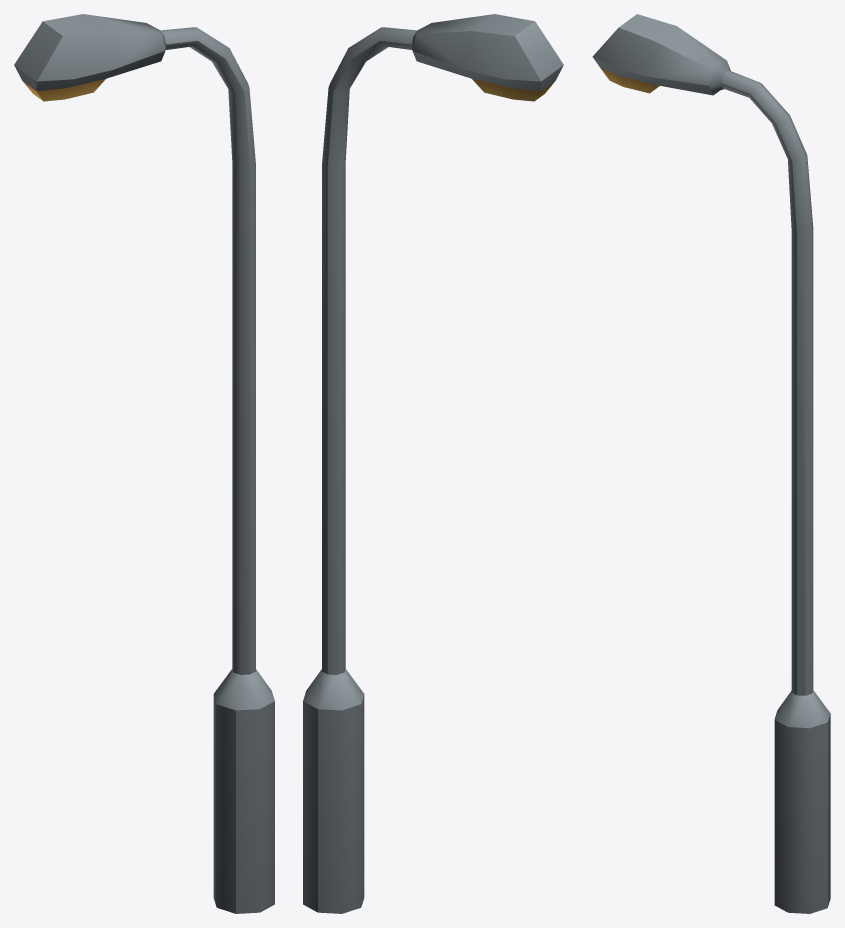
The model's file is Streetlight.glb.
3 views of the same model, side by side, from view 1: azimuth 30°, elevation 25°; view 2: azimuth 150°, elevation 25°; view 3: azimuth 330°, elevation 25° (orthographic). The views are drawn at different scales.
Parts seen in each view (by area): view 1: streetlight; view 2: streetlight; view 3: streetlight.
Part boxes in pixels (left/top/right/bottom): streetlight: left=14, top=14, right=274, bottom=913; streetlight: left=303, top=14, right=563, bottom=913; streetlight: left=592, top=14, right=830, bottom=913.
Bounding box in the file's own units: 0.2693 × 0.9599 × 0.069.
Materials: 1 (1 with a texture image).
